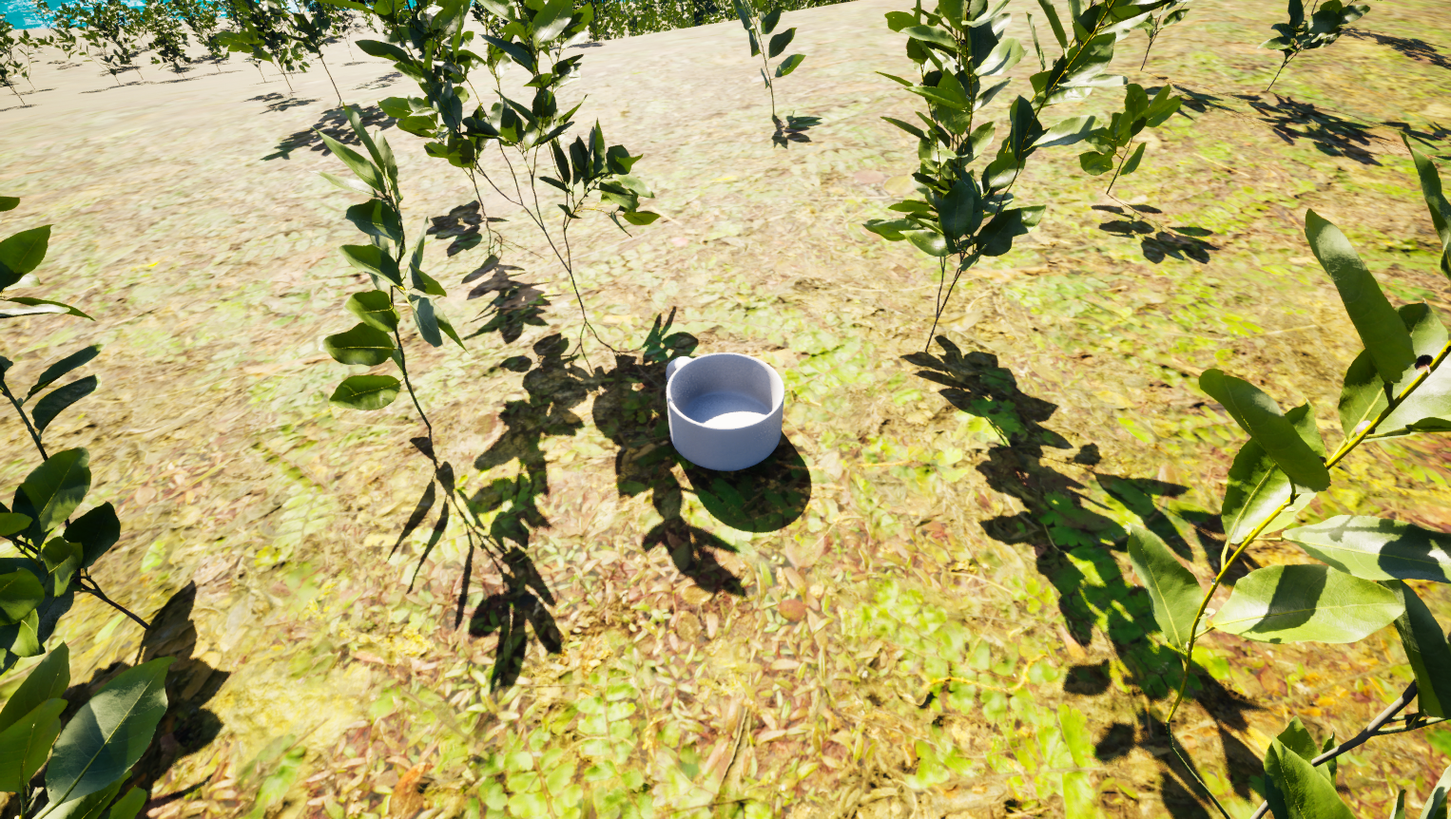Teacup: (661, 337, 797, 478)
